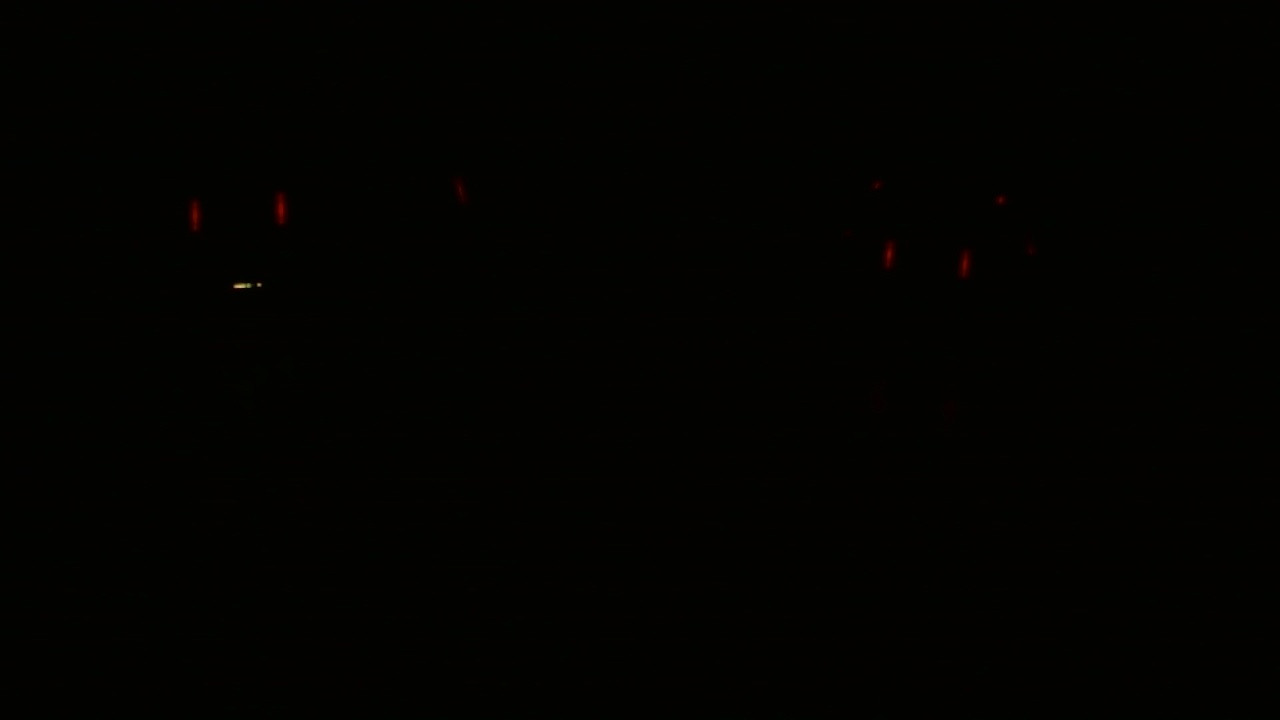pair1: (174, 185, 301, 248)
pair2: (875, 232, 975, 289)
